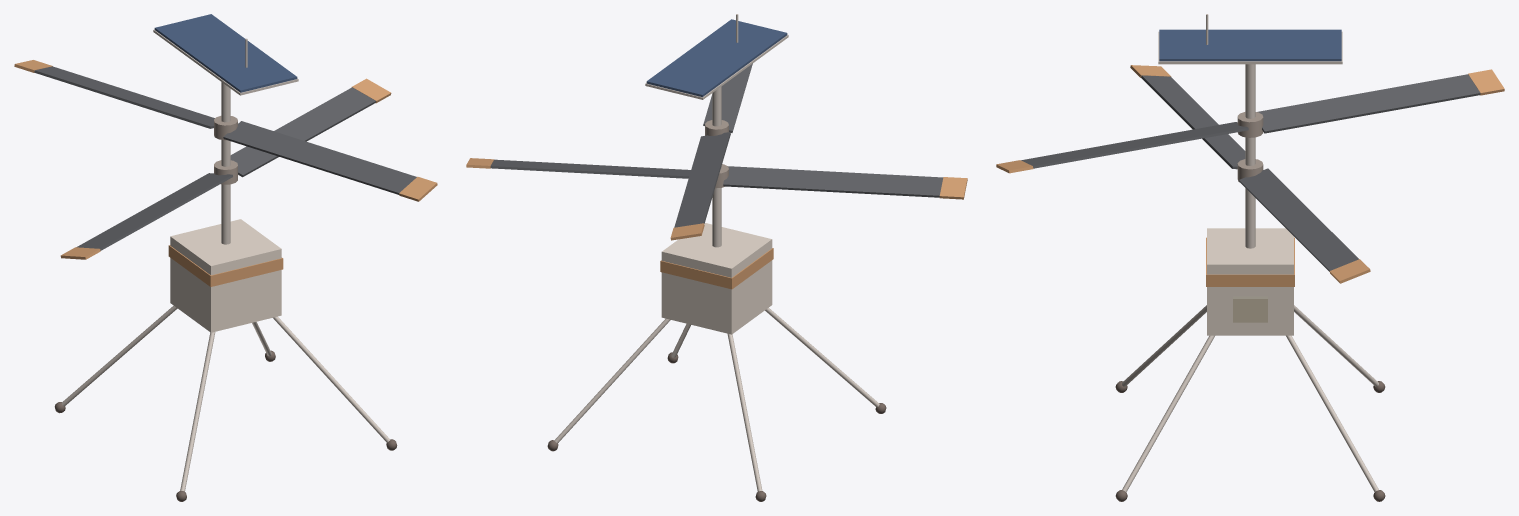
The model's file is V13_helicopter_drone.glb.
3 views of the same model, side by side, from view 1: azimuth 30°, elevation 25°; view 2: azimuth 150°, elevation 25°; view 3: azimuth 270°, elevation 25° (orthographic). The views are drawn at different scales.
Visible parts, largest first — view 1: body, blade, solar_panel, rotor_mast, rotor_hub; view 2: body, blade, solar_panel, rotor_mast; view 3: blade, body, solar_panel, rotor_mast, camera_window, rotor_hub.
Boxes of the visible parts, <box> form: body: <box>14,60,437,501</box>; blade: <box>34,66,416,250</box>; solar_panel: <box>154,14,297,92</box>; rotor_mast: <box>61,29,390,491</box>; rotor_hub: <box>214,116,237,184</box>; body: <box>466,158,967,501</box>; blade: <box>490,63,943,227</box>; solar_panel: <box>646,19,787,96</box>; rotor_mast: <box>554,14,879,491</box>; blade: <box>1021,74,1480,271</box>; body: <box>996,65,1504,501</box>; solar_panel: <box>1159,29,1341,61</box>; rotor_mast: <box>1122,14,1378,492</box>; camera_window: <box>1233,296,1267,322</box>; rotor_hub: <box>1237,112,1263,182</box>.
Size of the model in its own units: 1.17 by 1.1 by 1.17.
